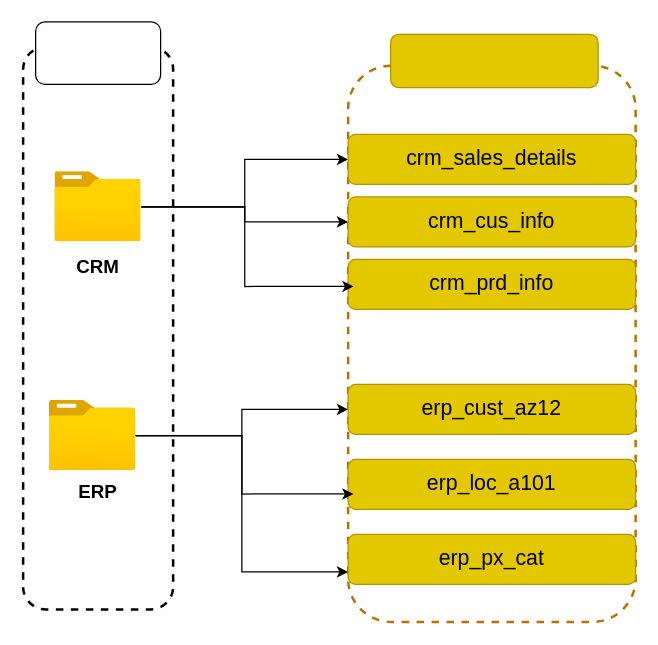
Image size: 658x645. Some labels were removed from this diagram. The centre of each missing label's shape, as x and y in pixels:
Bronze Layer: the point at 493,60
Sources: the point at 97,52
